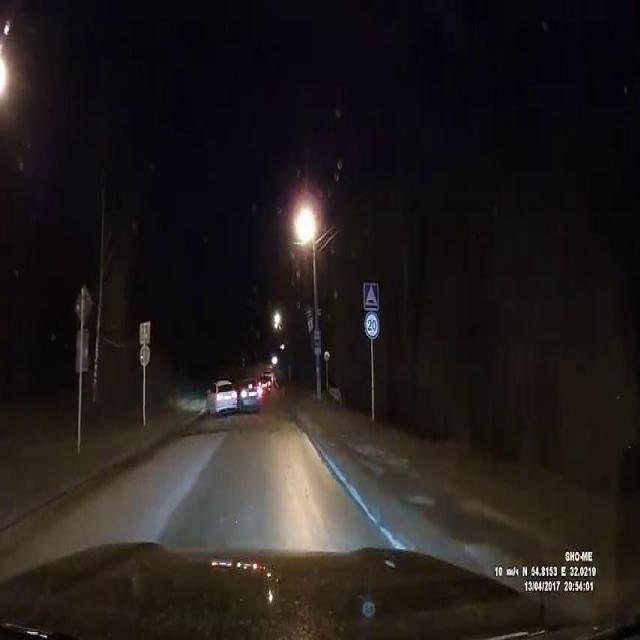moderate: (206, 369, 262, 422)
